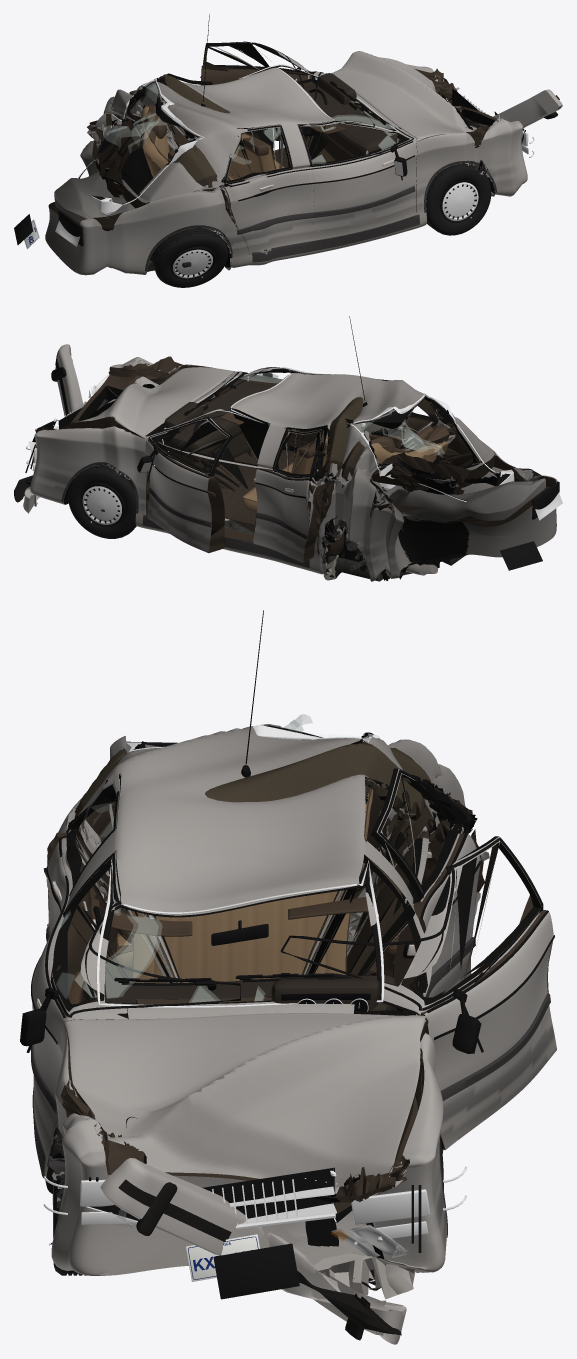
File: sedan87_rear_corner_d3.glb
3 views of the same model, one above another, from view 1: azimuth 30°, elevation 25°; view 2: azimuth 150°, elevation 25°; view 3: azimuth 270°, elevation 25° (orthographic). The views are drawn at different scales.
Visible parts, largest first — view 1: Body, Door_FR, Interior, Hood, Door_RR, Wheel_FR_mesh, Glass, Wheel_RR_mesh, Trim, Trunk, Door_FL, Trim_FR (+5 smaller); view 2: Body, Door_FL, Interior, Trunk, Door_RL, Hood, Wheel_FL_mesh, Glass, Ends, Trim, Bumper_F, Trim_FL (+5 smaller); view 3: Body, Hood, Interior, Door_FL, Ends, Bumper_F, Door_RL, Door_FR, Glass, Trim_FL, Trim_FR, Trim (+3 smaller).
Part boxes in pixels (bbox=[...]): Body: bbox=[45, 64, 527, 275]; Door_FR: bbox=[297, 121, 417, 239]; Interior: bbox=[141, 73, 400, 180]; Hood: bbox=[332, 51, 476, 141]; Door_RR: bbox=[222, 124, 317, 254]; Wheel_FR_mesh: bbox=[426, 163, 491, 235]; Glass: bbox=[77, 64, 399, 214]; Wheel_RR_mesh: bbox=[152, 227, 228, 287]; Trim: bbox=[145, 14, 496, 271]; Trunk: bbox=[54, 113, 142, 222]; Door_FL: bbox=[201, 42, 326, 141]; Trim_FR: bbox=[298, 102, 415, 217]; Body: bbox=[30, 356, 557, 581]; Door_FL: bbox=[145, 417, 232, 553]; Interior: bbox=[163, 379, 449, 512]; Trunk: bbox=[370, 457, 545, 523]; Door_RL: bbox=[253, 429, 327, 562]; Hood: bbox=[59, 367, 236, 438]; Wheel_FL_mesh: bbox=[68, 465, 136, 538]; Glass: bbox=[164, 367, 514, 501]; Ends: bbox=[25, 372, 562, 570]; Trim: bbox=[61, 316, 370, 577]; Bumper_F: bbox=[14, 344, 83, 513]; Trim_FL: bbox=[137, 414, 229, 535]; Body: bbox=[43, 724, 465, 1299]; Hood: bbox=[64, 1013, 428, 1223]; Interior: bbox=[82, 788, 396, 1012]; Door_FL: bbox=[380, 836, 556, 1150]; Ends: bbox=[43, 741, 467, 1299]; Bumper_F: bbox=[100, 1158, 406, 1344]; Door_RL: bbox=[371, 768, 489, 1010]; Door_FR: bbox=[32, 851, 127, 1155]; Glass: bbox=[96, 714, 384, 1007]; Trim_FL: bbox=[280, 837, 554, 1100]; Trim_FR: bbox=[20, 852, 240, 1113]; Trim: bbox=[32, 610, 447, 1237].
Size of the model in its own units: 4.88 by 2.14 by 2.24.
Materials: 32 (5 with a texture image).
